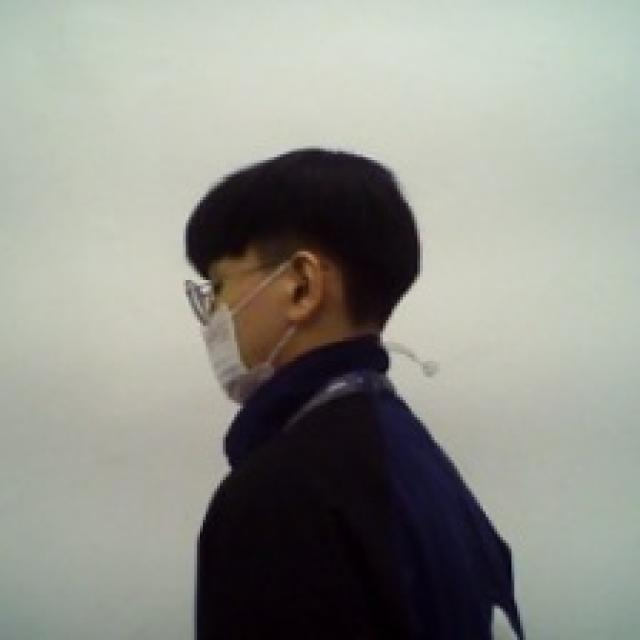mask: (181, 253, 320, 414)
no_gloves: (178, 146, 428, 324)
